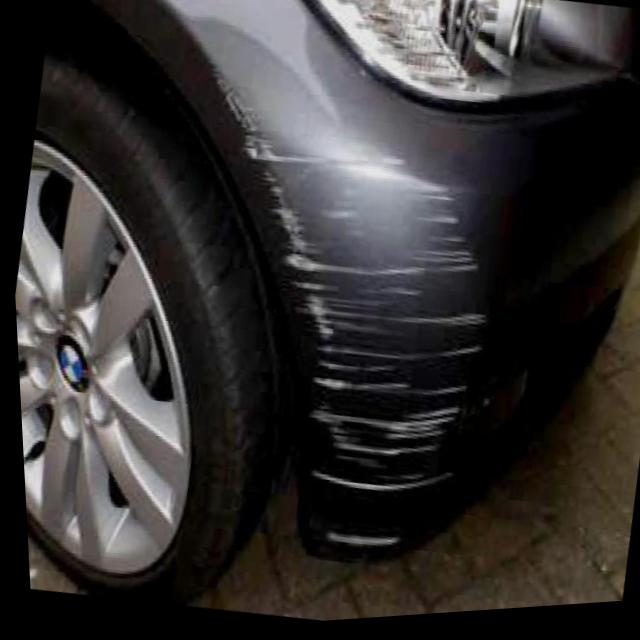Car-Damage: (148, 69, 529, 531)
